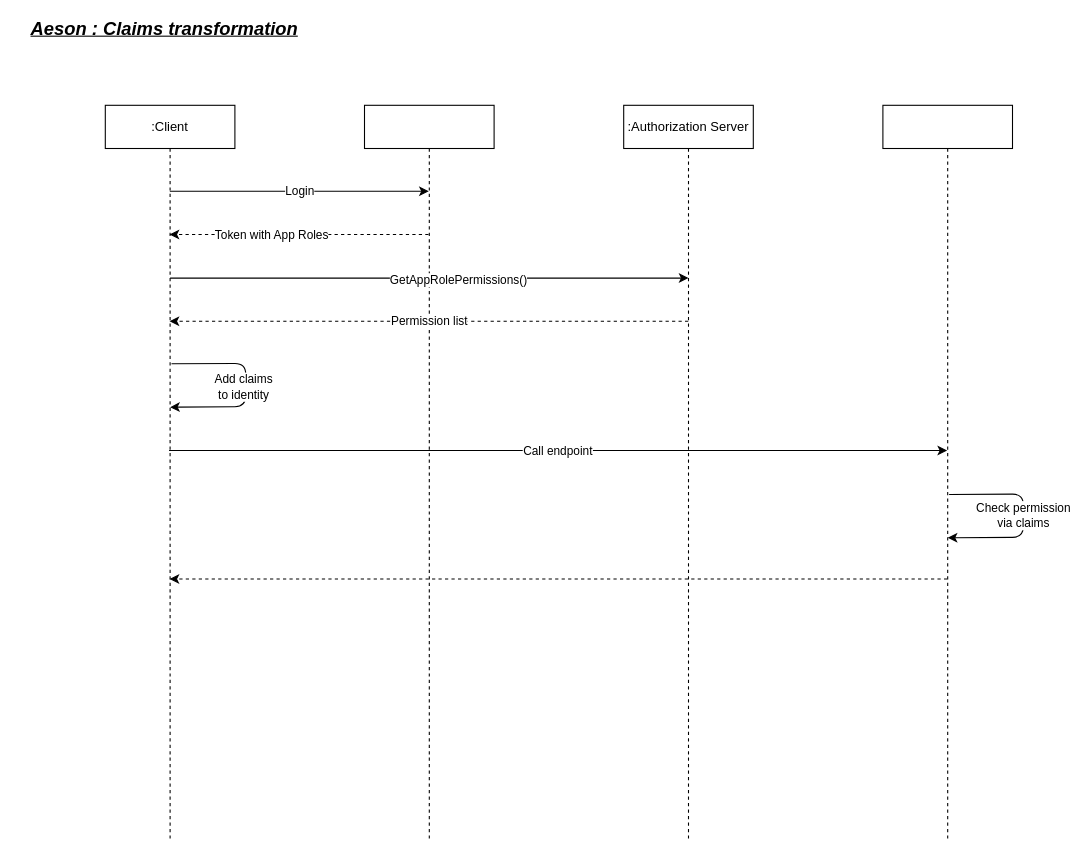
The diagram is 1089 pixels wide and 859 high, and some of its shapes have lost their labels. The box of each missing label's shape, as (x1, y1, x2, y2) in pixels:
:APIs: (882, 104, 1013, 840)
:Azure AD: (363, 104, 494, 840)
